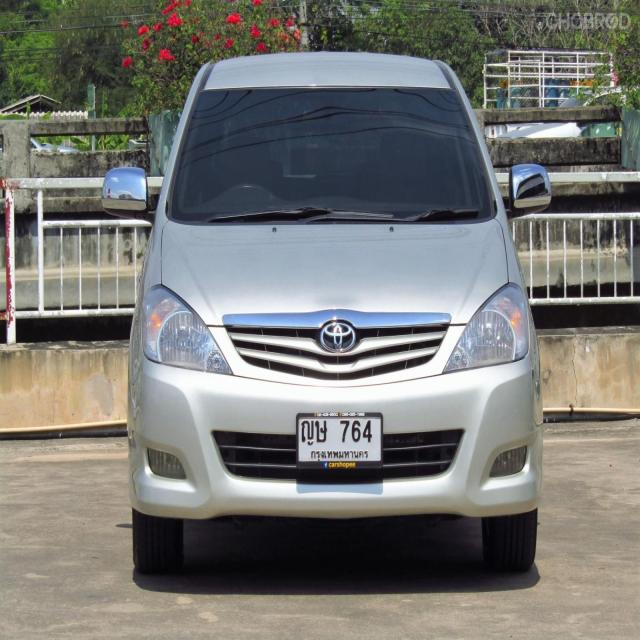license_plate: (295, 410, 383, 471)
